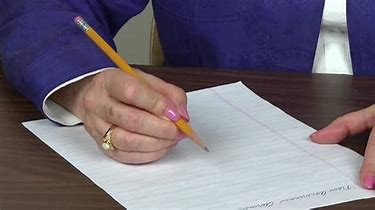pen: (73, 17, 208, 150)
